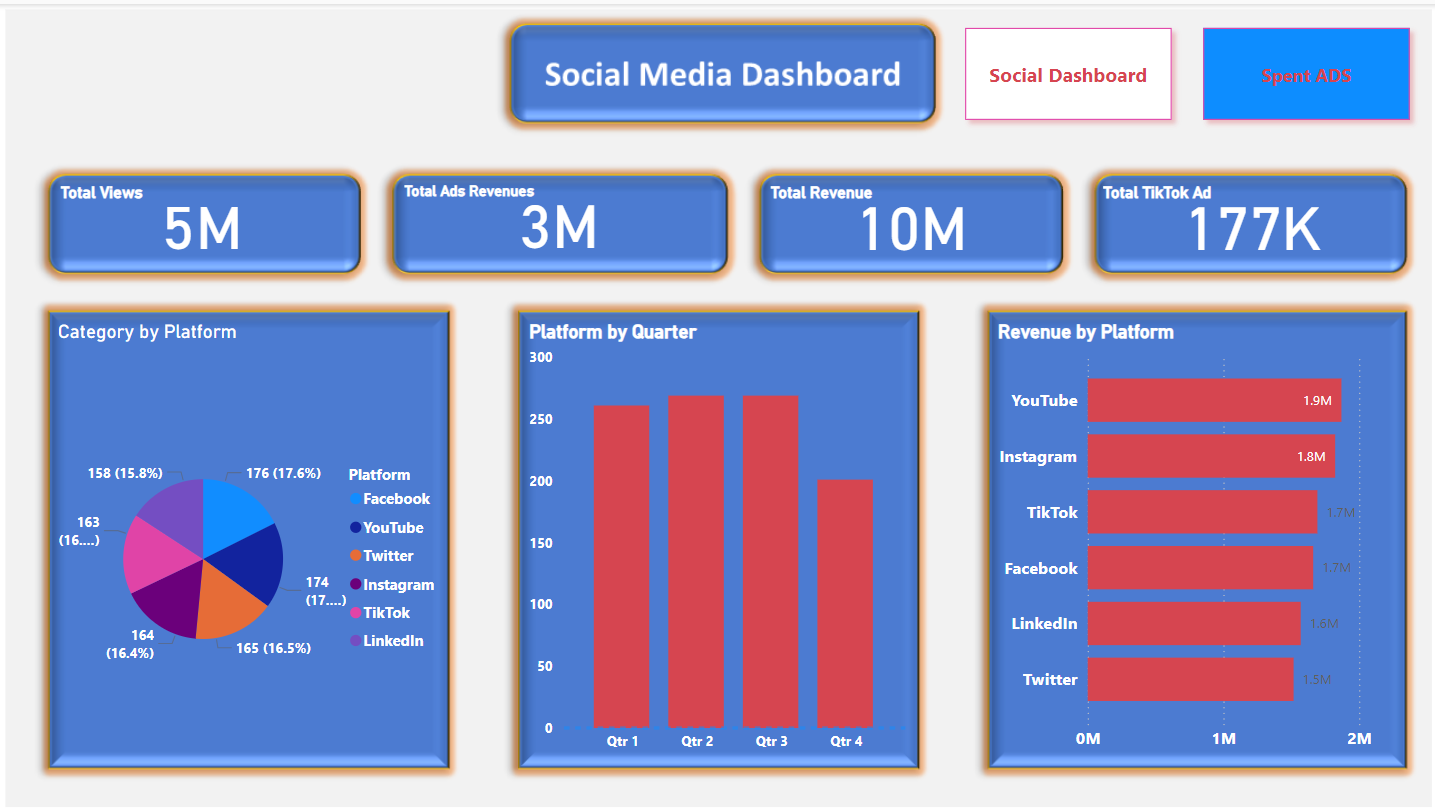

This screenshot's page, from the dashboard's own definition file:
{"tool":"powerbi","page":{"name":"Social Dashboard","canvas":[1280,720],"ordinal":0},"visuals":[{"type":"card","title":"Total Views","fields":{"Values":["Sum(Social_Media_Data_Task.Views)"]},"box":[84.7,139.4,270.5,90.2],"z":0},{"type":"image","box":[0,0,1280,720.2],"z":1000},{"type":"card","title":"Total Views","fields":{"Values":["Sum(Social_Media_Data_Task.Views)"]},"box":[49.5,159.3,260.6,71.2],"z":2000},{"type":"card","title":"Total Ads Revenues","fields":{"Values":["Social_Media_Data_Task.Total ADS Revenue"]},"box":[354.7,159.3,285.9,71.2],"z":3000},{"type":"card","title":"Total Revenue","fields":{"Values":["Sum(Social_Media_Data_Task.Revenue)"]},"box":[681.6,159.3,260.6,73.6],"z":4000},{"type":"card","title":"Total TikTok Ad","fields":{"Values":["Social_Media_Data_Task.Total Ad on Tik"]},"box":[977.2,159.3,276.3,73.6],"z":5000},{"type":"pieChart","title":"Category by Platform","fields":{"Category":["Social_Media_Data_Task.Platform"],"Y":["CountNonNull(Social_Media_Data_Task.Category)"]},"box":[47.1,281.1,354.7,406.6],"z":6000},{"type":"columnChart","title":" Platform by Quarter","fields":{"Category":["Social_Media_Data_Task.Post_Date.Variation.Date Hierarchy.Quarter"],"Y":["CountNonNull(Social_Media_Data_Task.Platform)"]},"box":[466.9,281.1,345,393.3],"z":7000},{"type":"barChart","title":"Revenue by Platform","fields":{"Y":["Sum(Social_Media_Data_Task.Revenue)"],"Category":["Social_Media_Data_Task.Platform"]},"box":[884.3,281.1,358.3,393.3],"z":8000},{"type":"pageNavigator","box":[850.4,12,415.2,100.1],"z":8001}]}

Visuals, with their boxes in screenshot pixels (x1, y1, x2, y2), scaled from the page's 1280x720 canvas onto the 1435x812 screenshot:
"Total Views" card: [95, 157, 398, 259]
image: [0, 0, 1434, 811]
"Total Views" card: [55, 180, 348, 260]
"Total Ads Revenues" card: [398, 180, 718, 260]
"Total Revenue" card: [764, 180, 1056, 263]
"Total TikTok Ad" card: [1096, 180, 1405, 263]
"Category by Platform" pieChart: [53, 317, 450, 776]
" Platform by Quarter" columnChart: [523, 317, 910, 761]
"Revenue by Platform" barChart: [991, 317, 1393, 761]
pageNavigator: [953, 14, 1419, 126]
